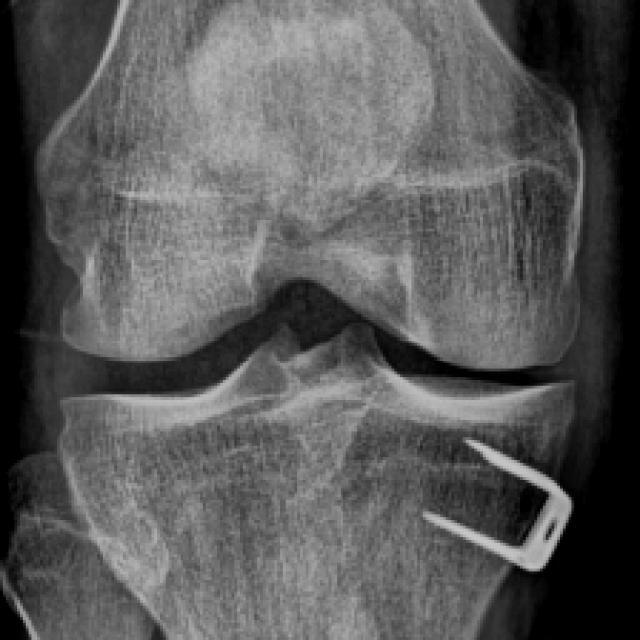femur: (37, 3, 586, 370)
tibia: (57, 321, 576, 640)
